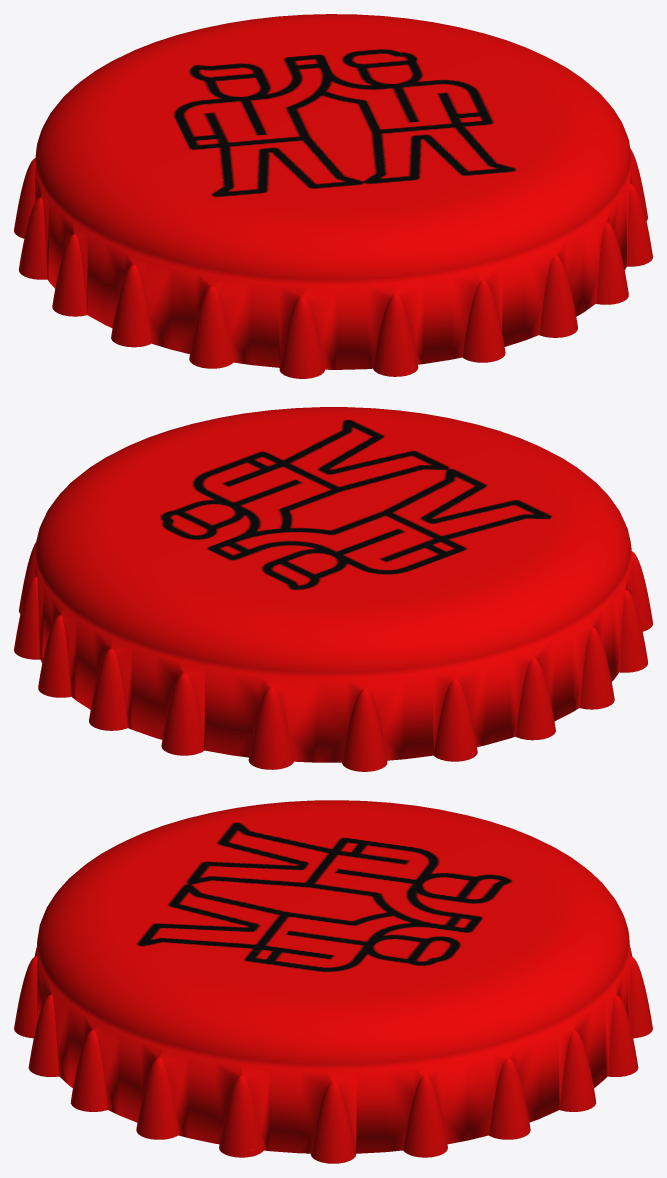
File: ChapaR.glb
3 renders of one model, top to bottom at view 1: azimuth 30°, elevation 25°; view 2: azimuth 150°, elevation 25°; view 3: azimuth 270°, elevation 25°, orthographic.
Parts seen in each view (by area): view 1: bottle_cap_blank; view 2: bottle_cap_blank; view 3: bottle_cap_blank.
Part boxes in pixels (bbox=[...]): bottle_cap_blank: bbox=[14, 14, 652, 378]; bottle_cap_blank: bbox=[14, 407, 652, 771]; bottle_cap_blank: bbox=[14, 800, 652, 1163].
Size of the model in its own units: 28 by 6 by 28.
1 material, 1 textured.
